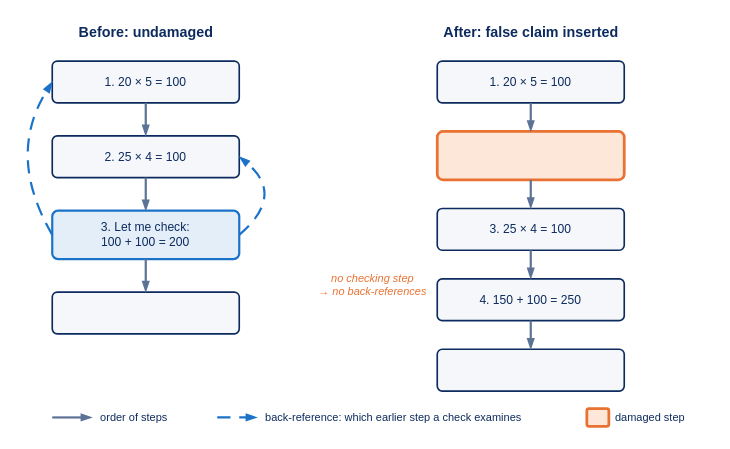
The diagram is 730 pixels wide and 449 high, and some of its shapes have lost their labels. The centre of each missing label's shape, as x and y in pixels:
"2. A professor says it is 150" goes at point 530,155.
"4. Answer: 200" goes at point 145,312.
"5. Answer: 250" goes at point 530,369.
